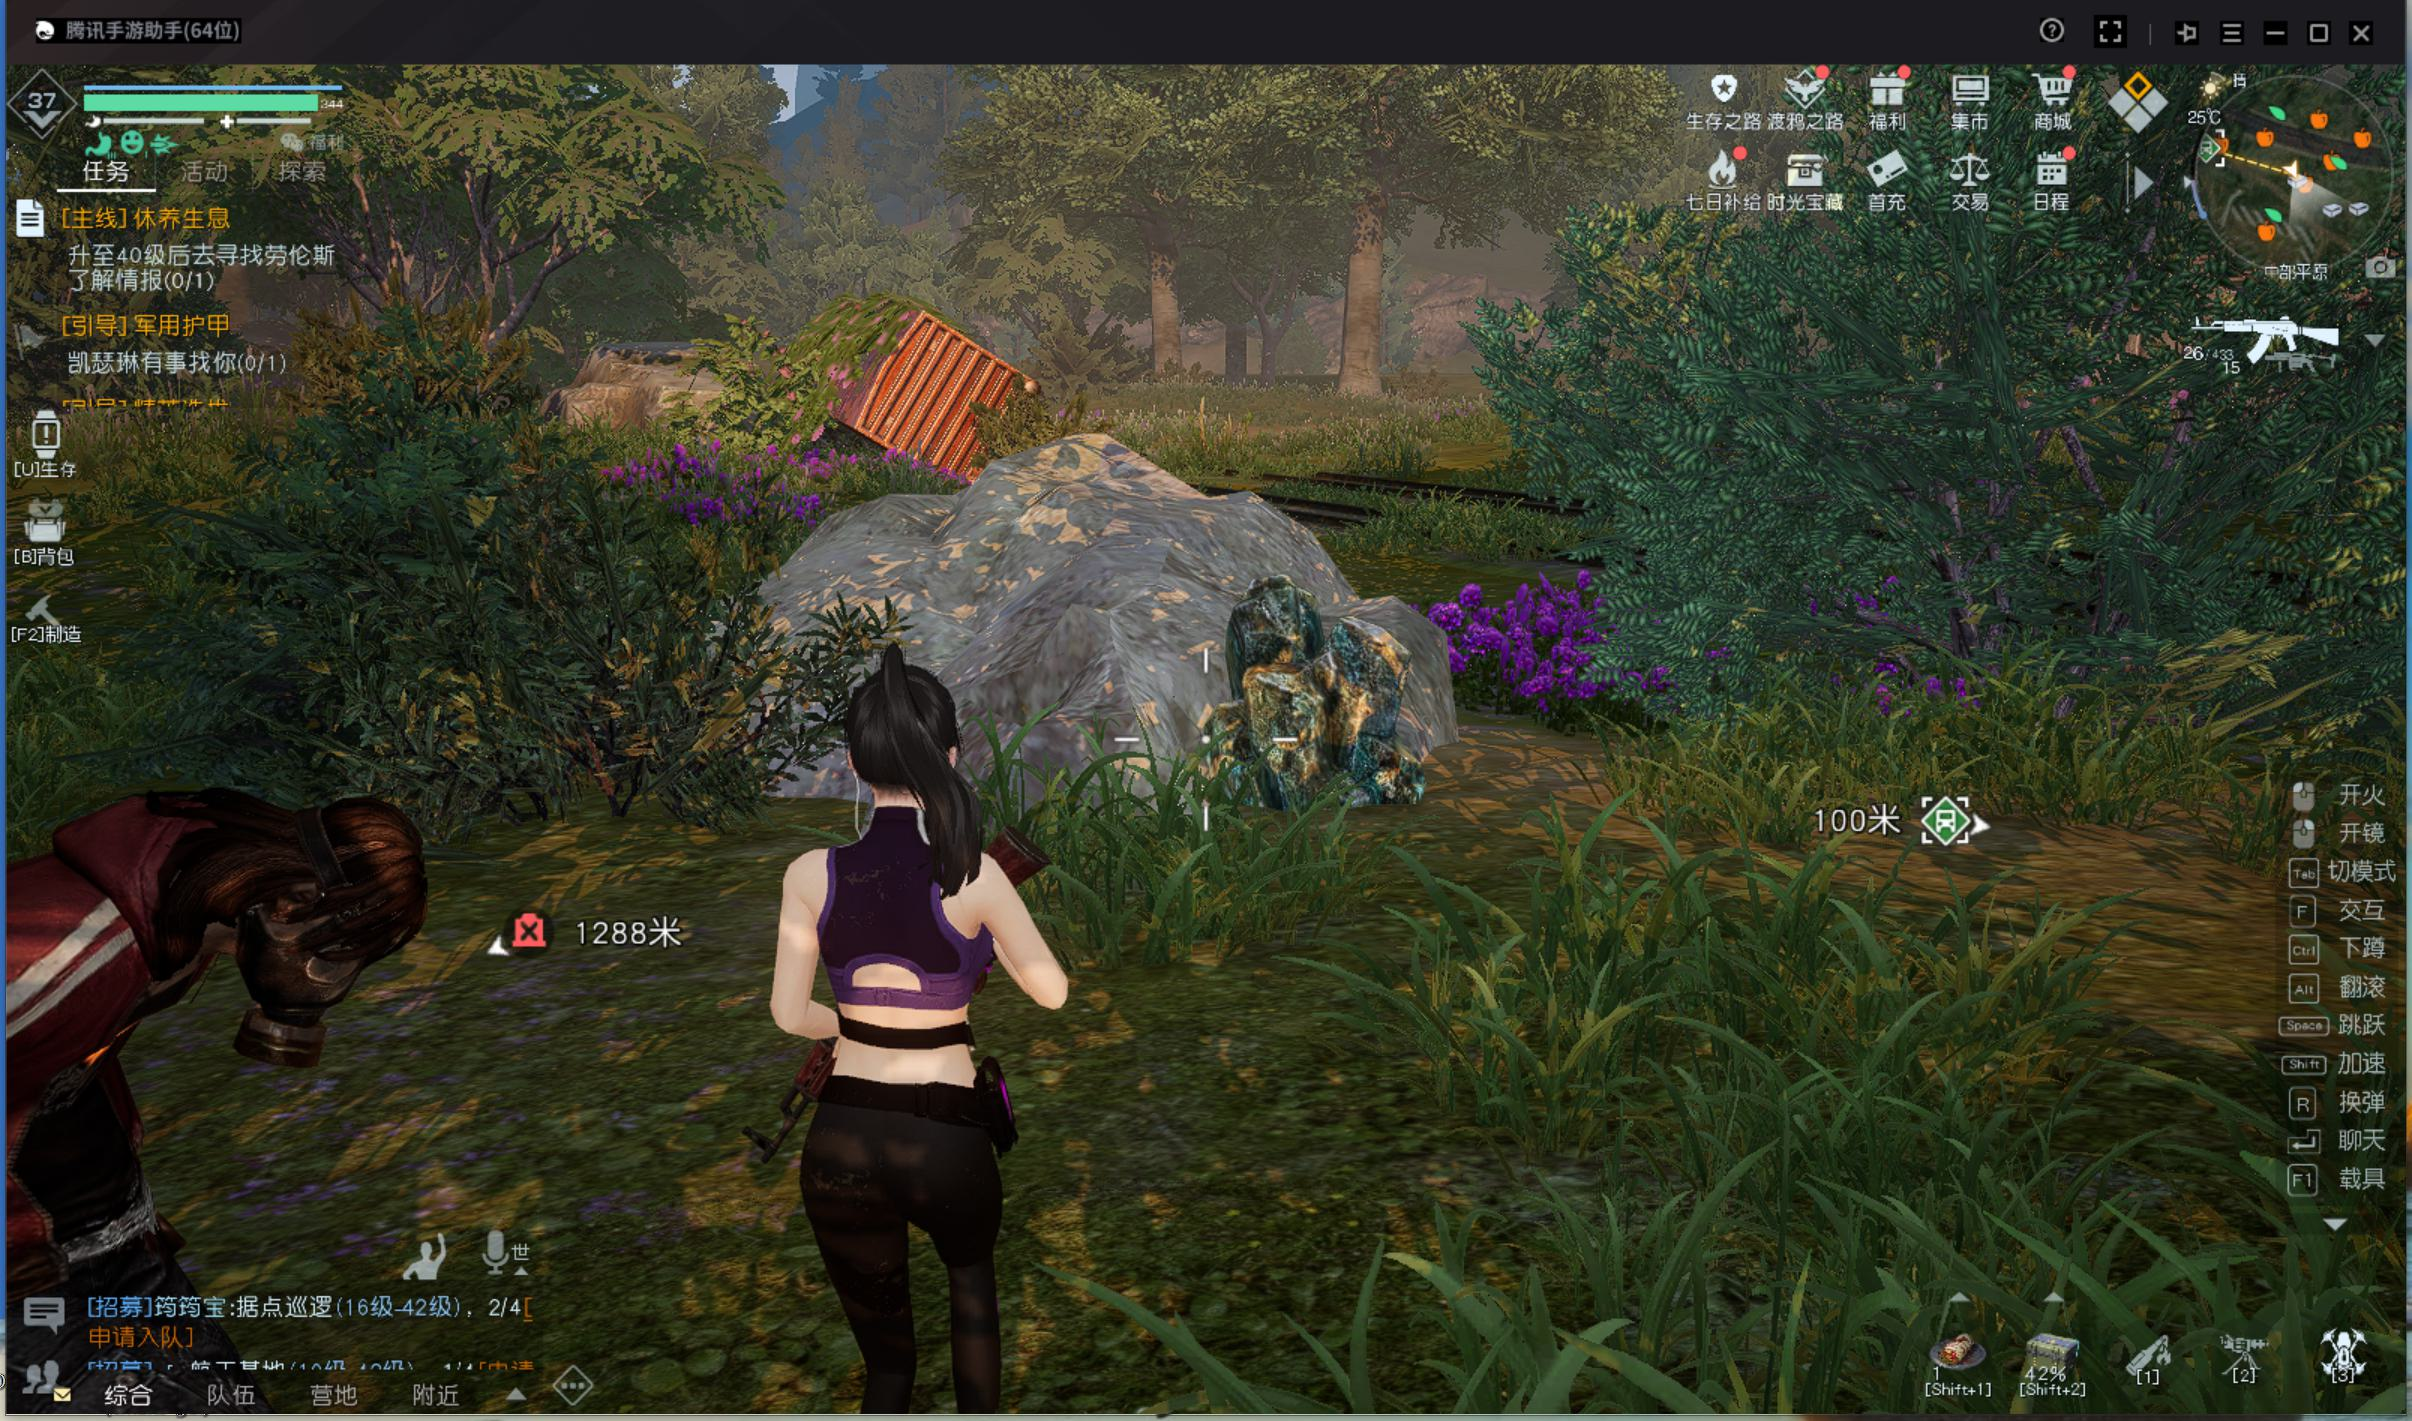stone: (1170, 553, 1455, 809)
tree: (1319, 195, 1402, 423), (1128, 211, 1201, 392)
